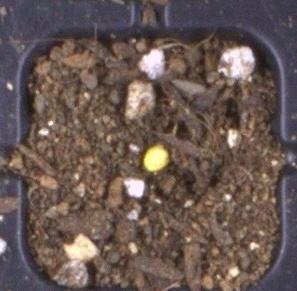chilli seed: (143, 146, 170, 172)
